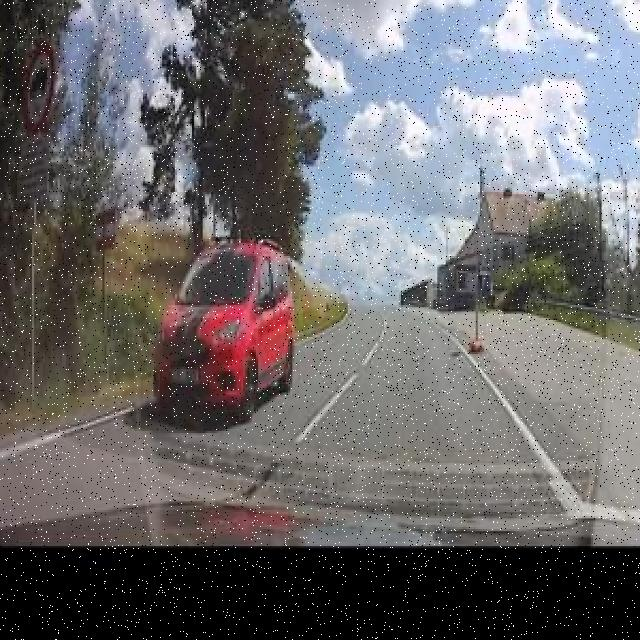clear-road: (300, 306, 533, 462), (226, 308, 383, 449)
